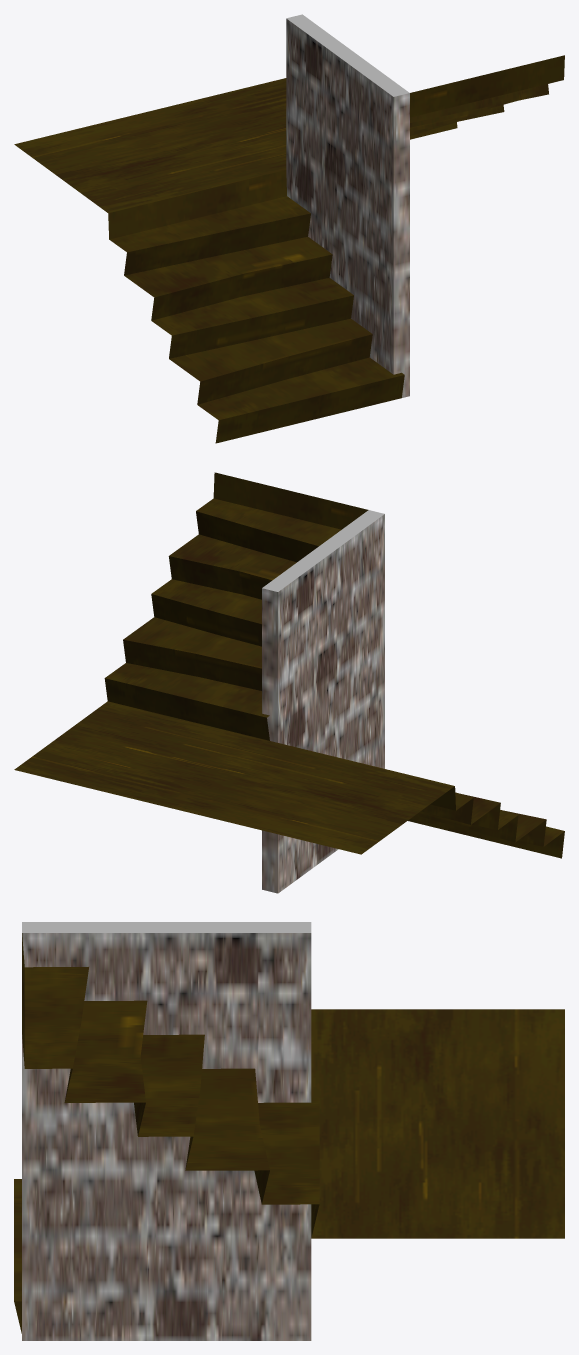
The model's file is TreppeMitTrennwand [MitSteinen]_1197.glb.
The picture shows the model from 3 angles, top to bottom: view 1: azimuth 30°, elevation 25°; view 2: azimuth 150°, elevation 25°; view 3: azimuth 270°, elevation 25°; orthographic projection. The views are drawn at different scales.
Parts seen in each view (by area): view 1: pPlaneShape17, pPlaneShape20, pPlaneShape1, pPlaneShape19, pPlaneShape22, pPlaneShape18; view 2: pPlaneShape1, pPlaneShape19, pPlaneShape20, pPlaneShape17, pPlaneShape23, pPlaneShape18; view 3: pPlaneShape21, pPlaneShape1, pPlaneShape19, pPlaneShape18, pPlaneShape17.
Part boxes in pixels (bbox=[...]): pPlaneShape17: bbox=[108, 170, 404, 443]; pPlaneShape20: bbox=[286, 18, 393, 374]; pPlaneShape1: bbox=[14, 78, 286, 213]; pPlaneShape19: bbox=[410, 55, 564, 139]; pPlaneShape22: bbox=[393, 93, 409, 397]; pPlaneShape18: bbox=[286, 14, 409, 96]; pPlaneShape1: bbox=[14, 701, 454, 854]; pPlaneShape19: bbox=[104, 472, 368, 740]; pPlaneShape20: bbox=[278, 514, 384, 893]; pPlaneShape17: bbox=[408, 786, 564, 858]; pPlaneShape23: bbox=[262, 588, 277, 893]; pPlaneShape18: bbox=[262, 510, 384, 591]; pPlaneShape21: bbox=[22, 933, 311, 1340]; pPlaneShape1: bbox=[311, 1009, 564, 1238]; pPlaneShape19: bbox=[22, 933, 319, 1237]; pPlaneShape18: bbox=[22, 922, 311, 932]; pPlaneShape17: bbox=[14, 1179, 21, 1333].
Size of the model in its own units: 0.4693 by 0.3891 by 0.4763.
Materials: 8 (7 with a texture image).
